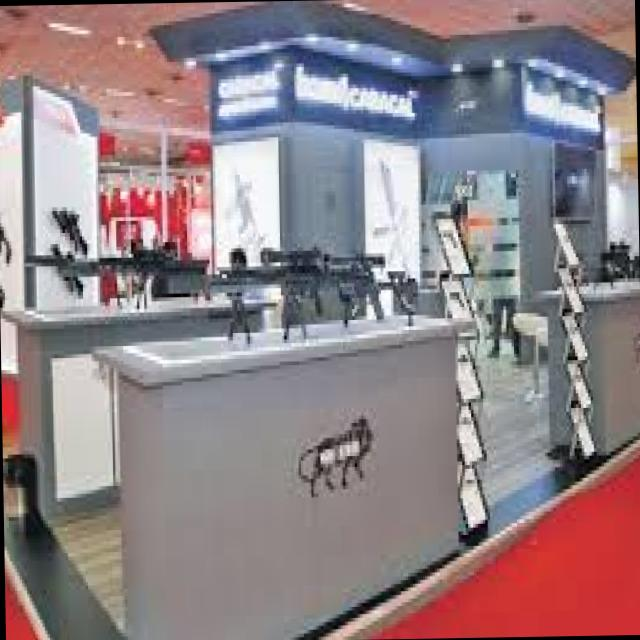Gun: (129, 240, 416, 359)
